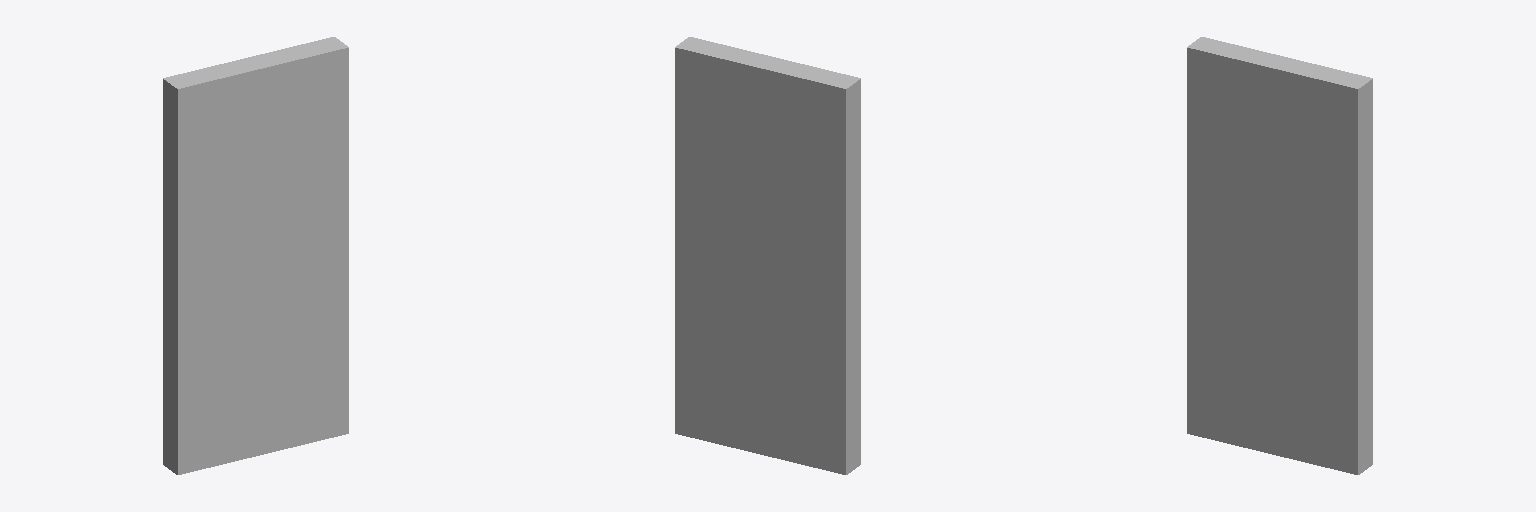
Rendered from portal.obj.
The picture shows the model from 3 angles: view 1: azimuth 30°, elevation 25°; view 2: azimuth 150°, elevation 25°; view 3: azimuth 330°, elevation 25°; orthographic projection.
Visible parts, largest first — view 1: Mesh1 Group1 Model; view 2: Mesh1 Group1 Model; view 3: Mesh1 Group1 Model.
Boxes of the visible parts, x1=… form: Mesh1 Group1 Model: x1=163, y1=37, x2=348, y2=474; Mesh1 Group1 Model: x1=675, y1=37, x2=860, y2=474; Mesh1 Group1 Model: x1=1187, y1=37, x2=1372, y2=474.
Size of the model in its own units: 1 by 2.15 by 0.15.